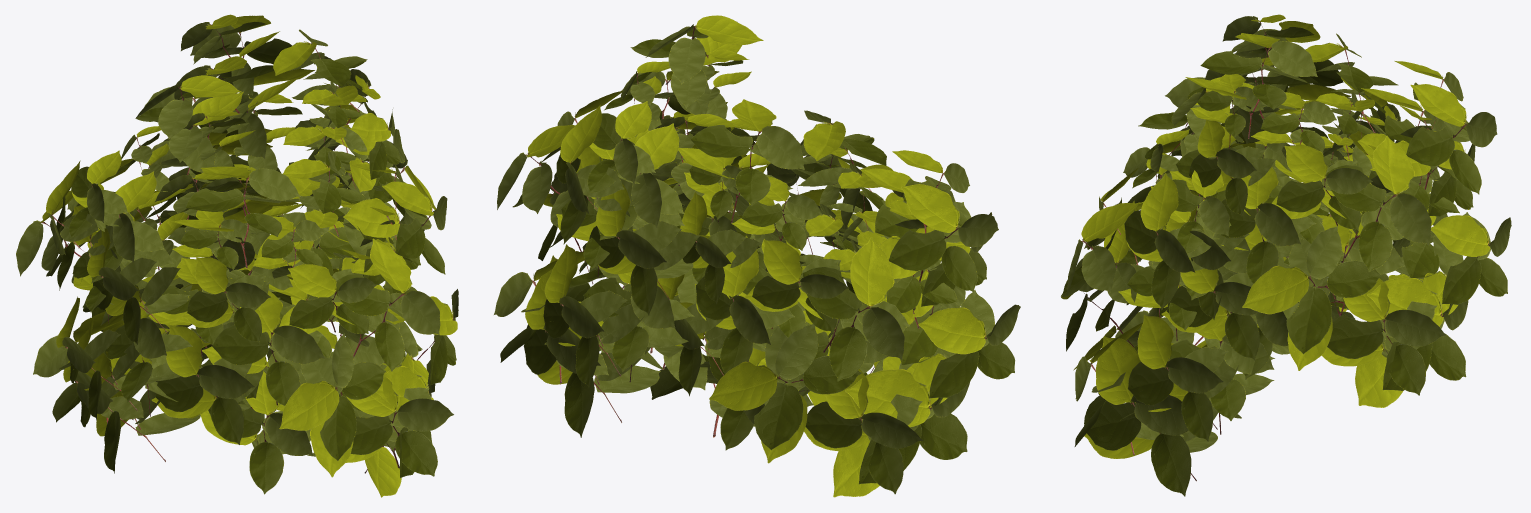
The model's file is PNW Plant_A_Large_512.glb.
The picture shows the model from 3 angles, left to right: view 1: azimuth 30°, elevation 25°; view 2: azimuth 150°, elevation 25°; view 3: azimuth 270°, elevation 25°; orthographic projection. The views are drawn at different scales.
Visible parts, largest first — view 1: Plant_A_Large_512; view 2: Plant_A_Large_512; view 3: Plant_A_Large_512.
Boxes of the visible parts, x1,y1,x2,y2 form: Plant_A_Large_512: (16, 14, 458, 497); Plant_A_Large_512: (494, 15, 1020, 497); Plant_A_Large_512: (1061, 14, 1511, 496).
Bounding box in the file's own units: 1.76 × 1.77 × 1.72.
1 material, 1 textured.
